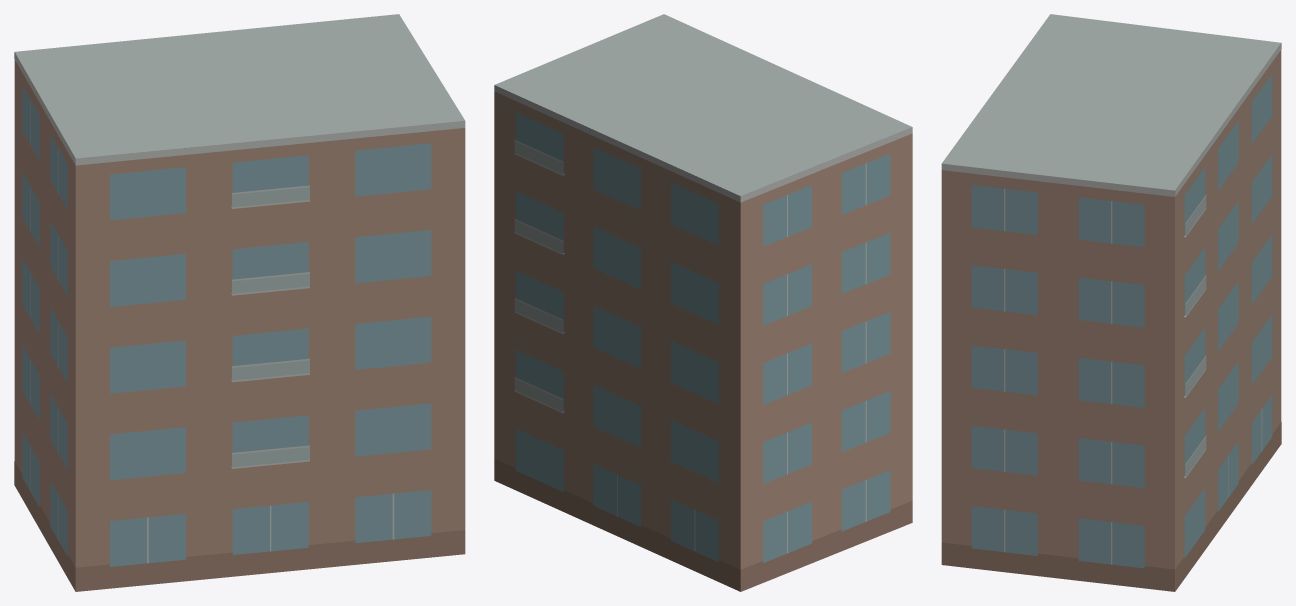
File: survey-upis-32874820.glb
The picture shows the model from 3 angles, left to right: view 1: azimuth 30°, elevation 25°; view 2: azimuth 150°, elevation 25°; view 3: azimuth 270°, elevation 25°; orthographic projection. The views are drawn at different scales.
Visible parts, largest first — view 1: survey-upis-32874820.tmp; view 2: survey-upis-32874820.tmp; view 3: survey-upis-32874820.tmp.
Boxes of the visible parts, <box> form: survey-upis-32874820.tmp: <box>14,14,465,591</box>; survey-upis-32874820.tmp: <box>494,14,912,591</box>; survey-upis-32874820.tmp: <box>941,14,1281,591</box>.
Size of the model in its own units: 14.36 by 15.2 by 11.68.
